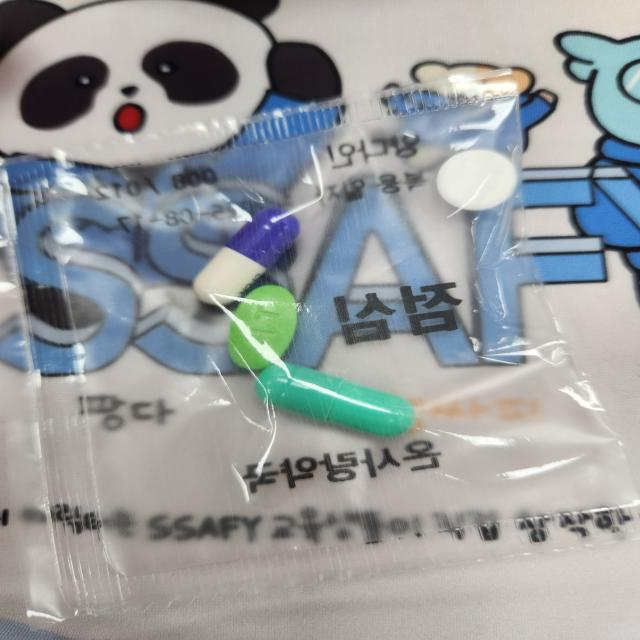러키펜정: (435, 150, 522, 214)
씨엠지세파클러캡슐: (192, 211, 300, 309)
에르도캡슐: (254, 362, 418, 440)
휴티렌정: (228, 284, 298, 371)
